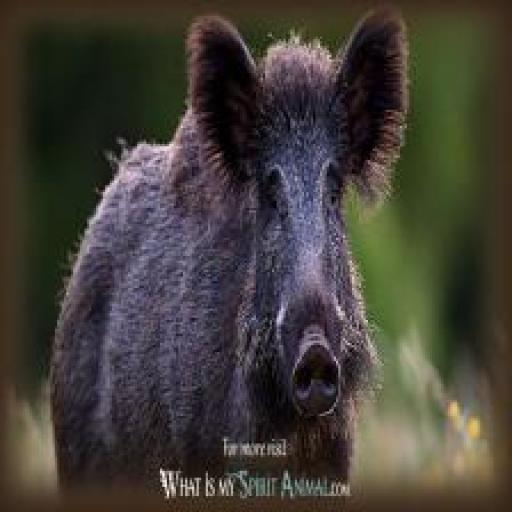Pig: (48, 7, 409, 491)
